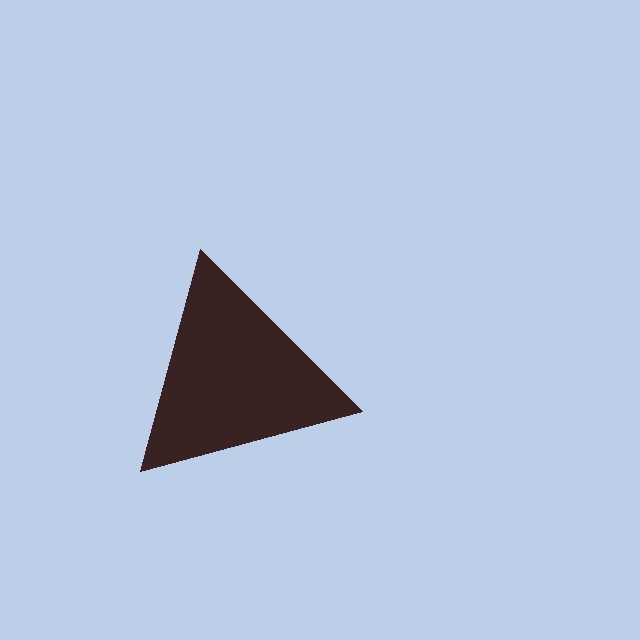triangle: (140, 248, 363, 472)
